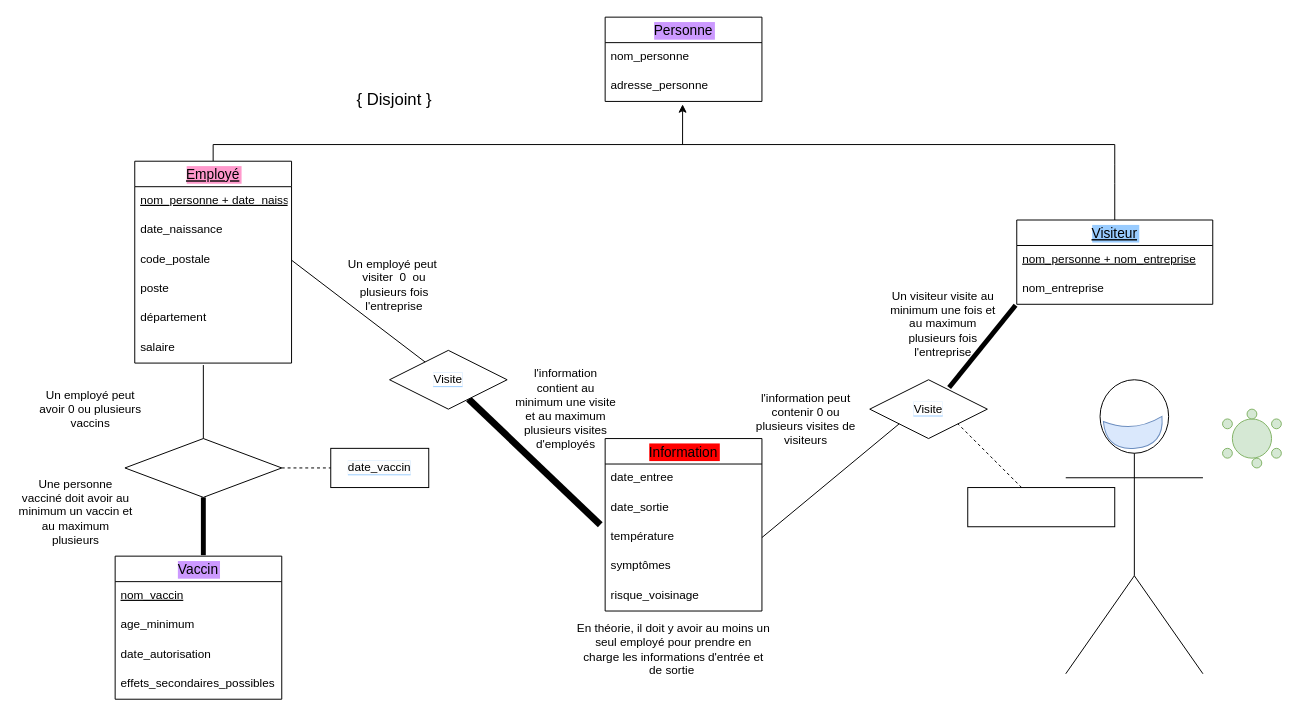
This 1299x719 diagram has some shape labels left out. Each missing label, with the centre of its shape:
"départements_visités" belongs at point (1041, 507).
"Vacciné" belongs at point (203, 467).
